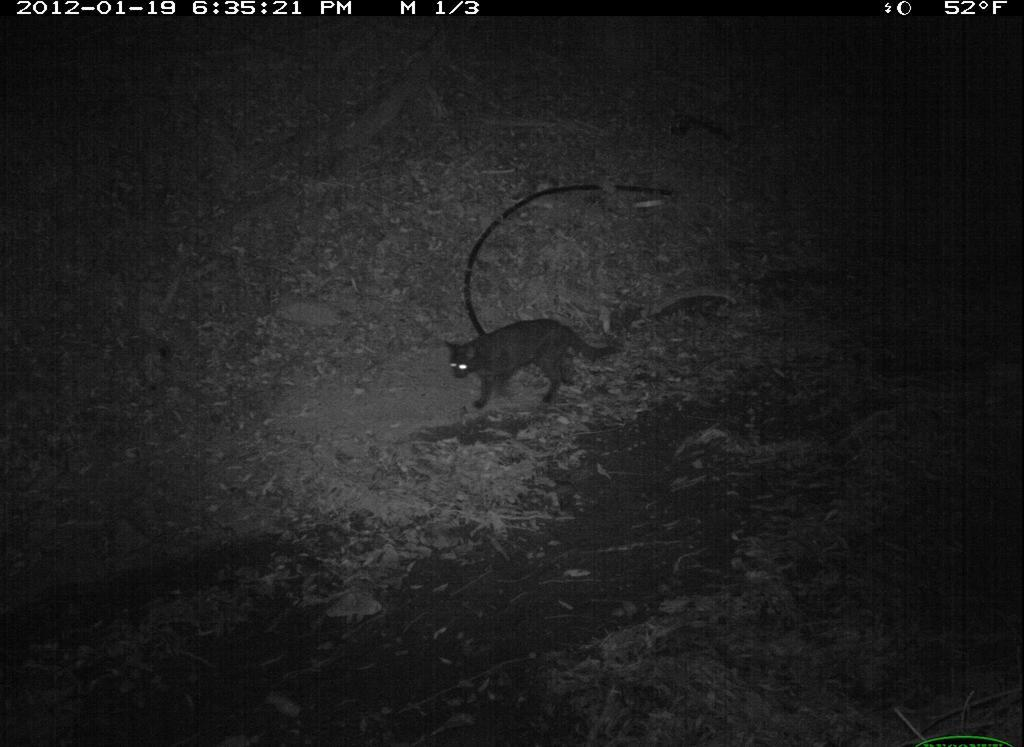cat: (415, 313, 660, 434)
